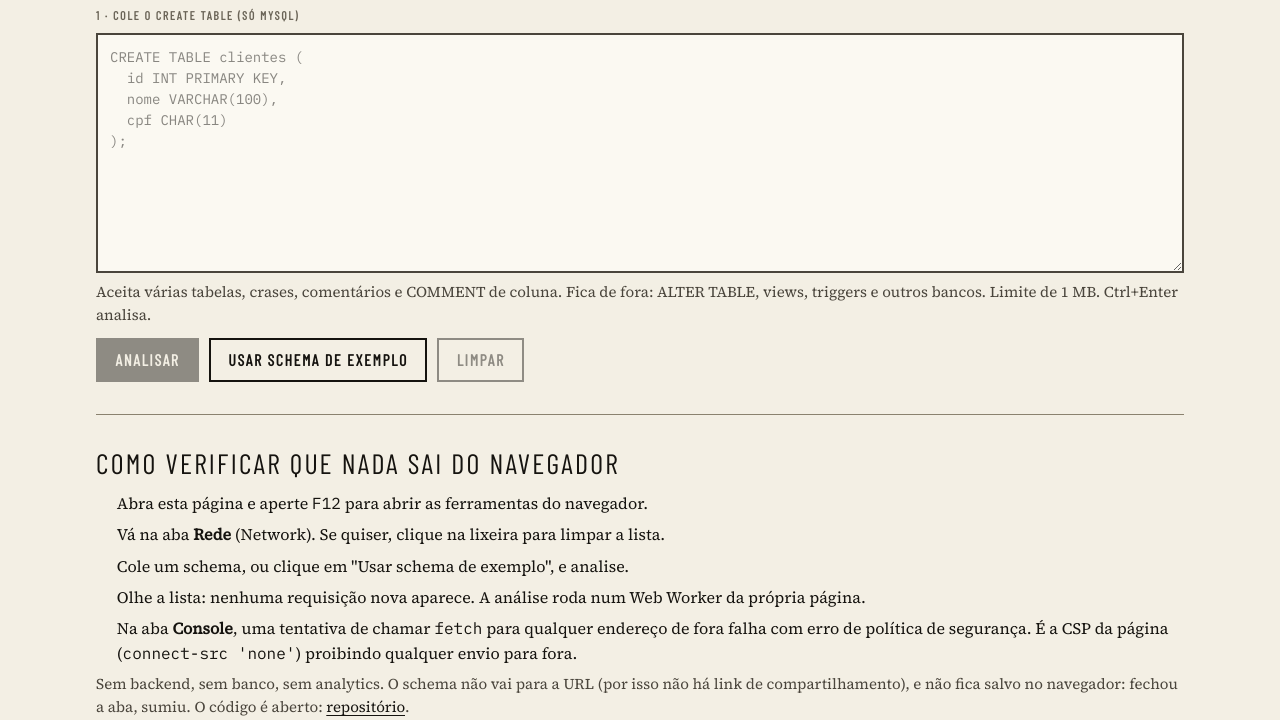
it: interface: aviso e honestidade › a frase de desempenho e o aviso sobre 'sem pista' aparecem com o resultado
This screenshot has width=1280, height=720.
(page scrolled)
Click the button "Usar schema de exemplo": (318, 360) [209,338,428,382]
(page scrolled)
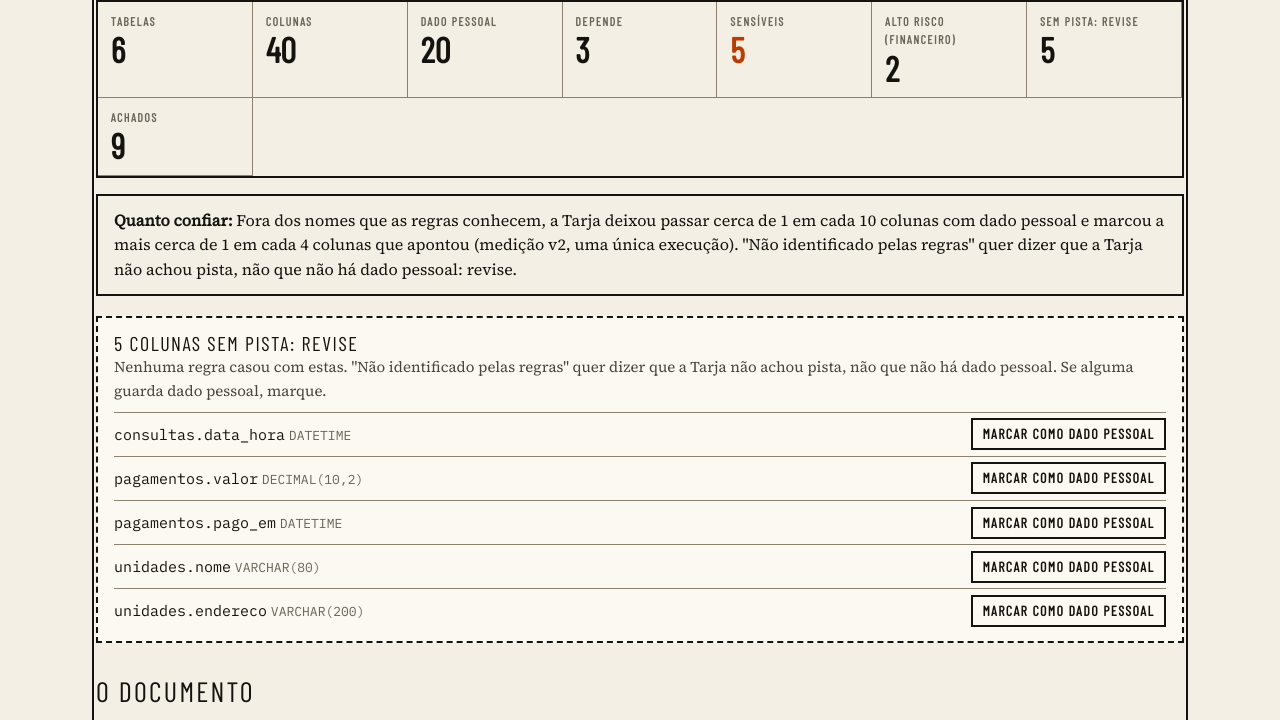
Expected: the heading "O documento" is shown, [96,674,255,708]
Expected: the text "não que não há dado pessoal" is shown, [114,209,1164,280]
